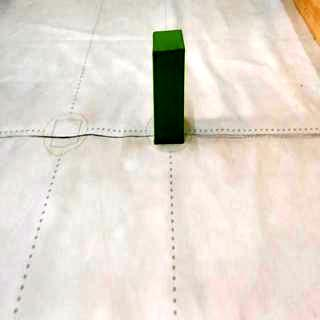greenbox: (154, 31, 185, 146)
